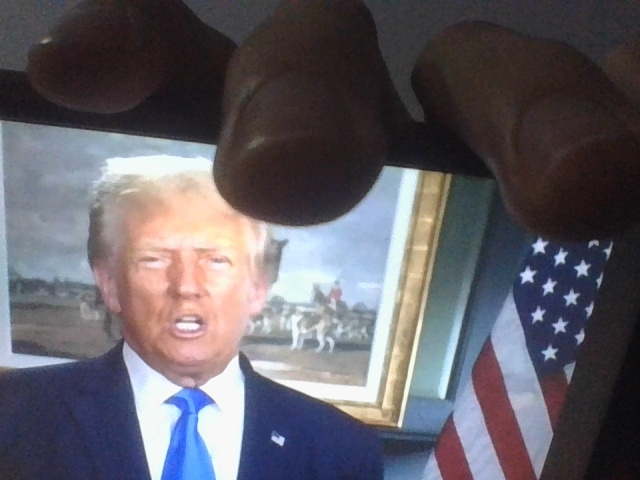fake: (98, 141, 269, 384)
